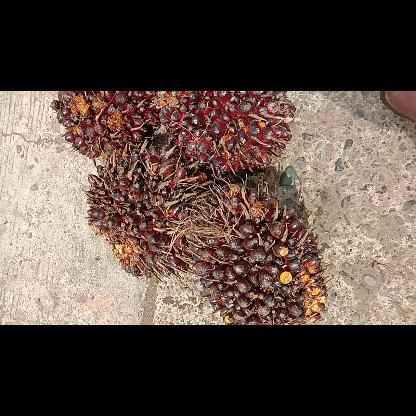Kurang masak: (184, 180, 332, 324), (82, 141, 214, 282), (154, 90, 298, 178), (44, 90, 172, 160)
